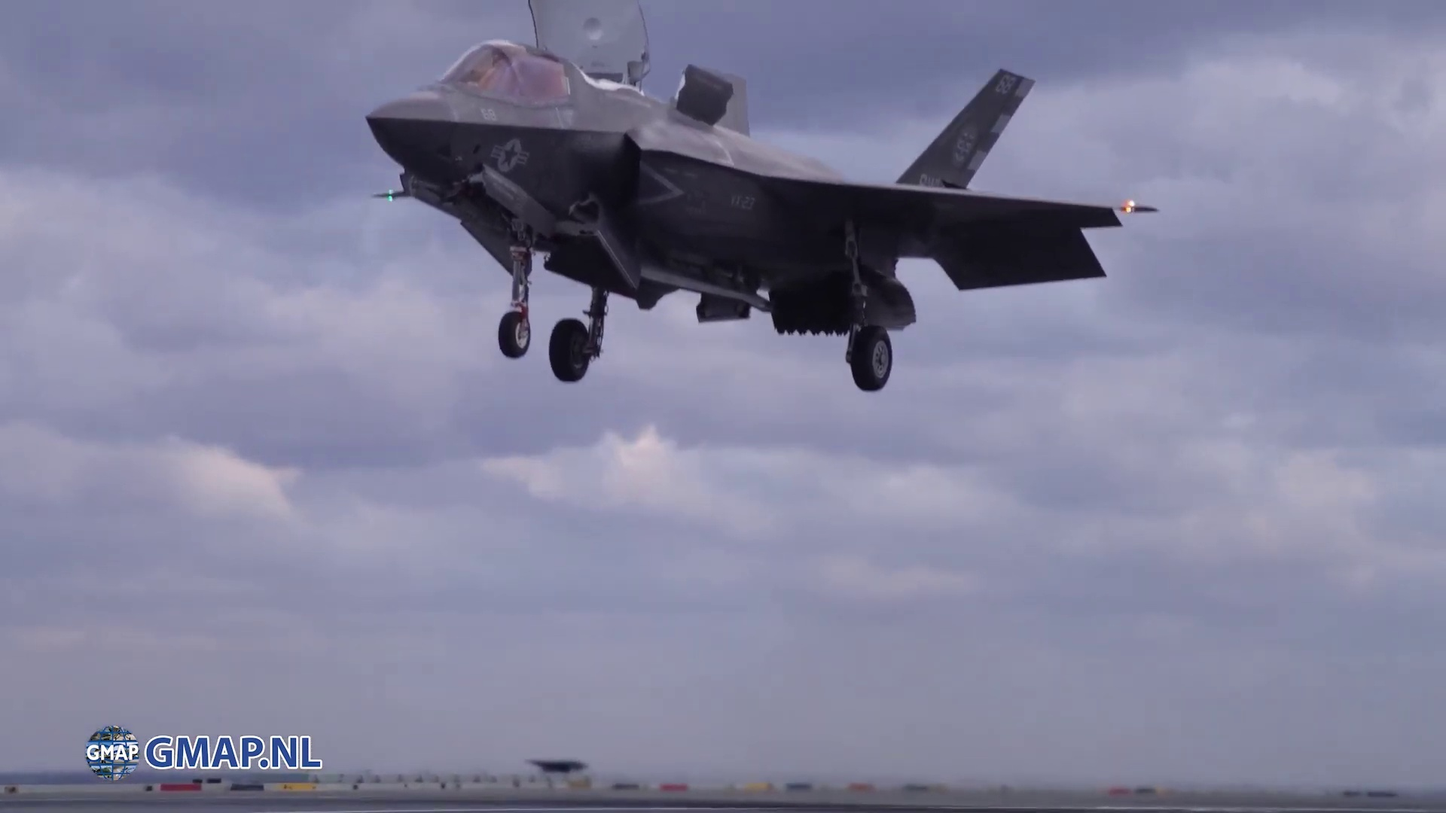F35: (356, 0, 1166, 399)
